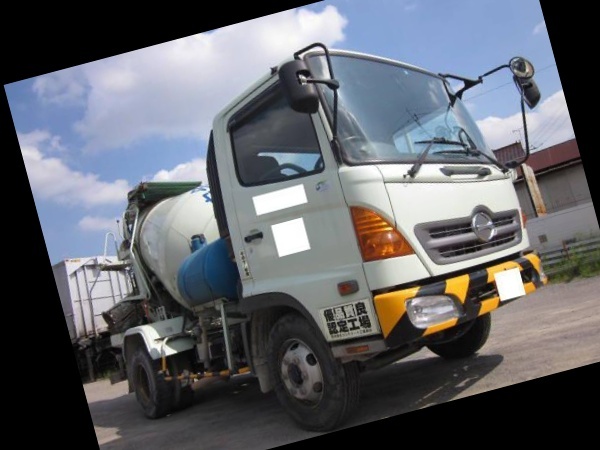truck: (60, 0, 600, 450)
